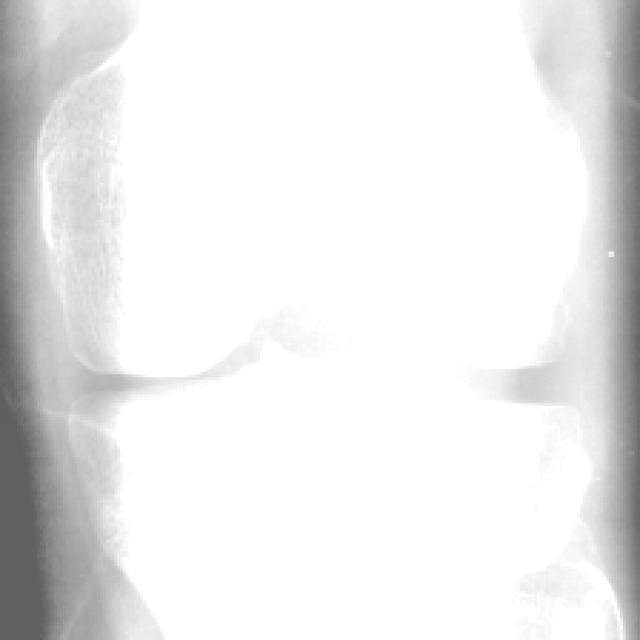femur: (39, 0, 589, 376)
tibia: (70, 346, 589, 640)
